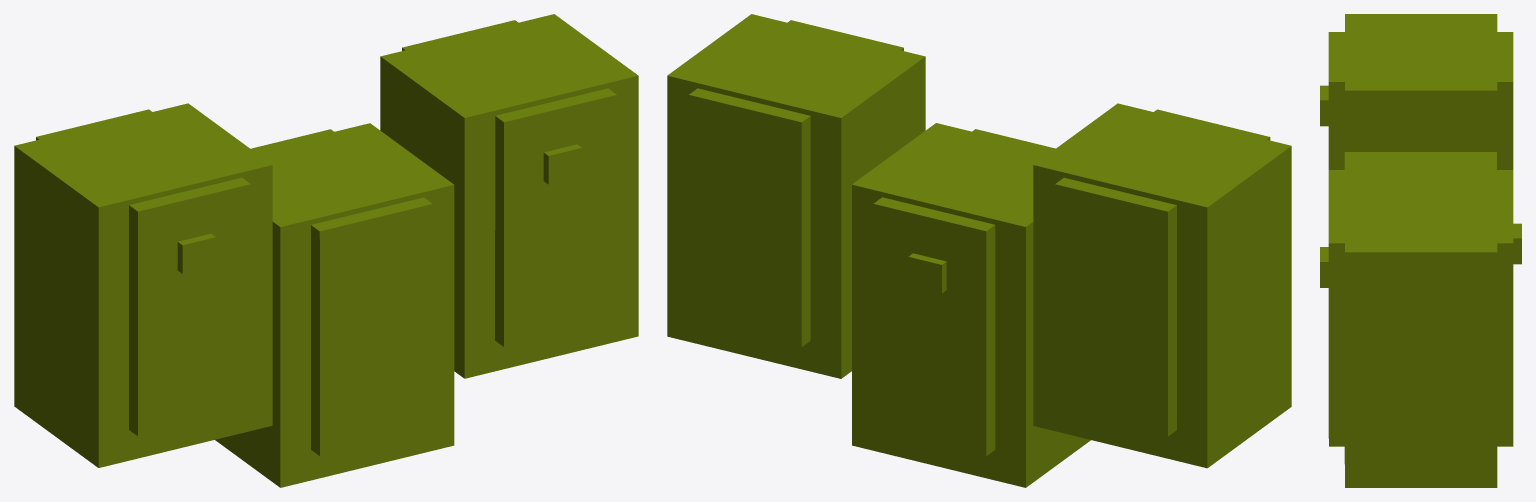
File: part_15_opt_2.obj
3 views of the same model, side by side, from view 1: azimuth 30°, elevation 25°; view 2: azimuth 150°, elevation 25°; view 3: azimuth 270°, elevation 25° (orthographic). The views are drawn at different scales.
Parts seen in each view (by area): view 1: Box025, Box023, Box024; view 2: Box025, Box023, Box024; view 3: Box023, Box025, Box024.
Part boxes in pixels (x1,y1,x2,y2): Box025: (14, 103, 272, 467); Box023: (380, 14, 638, 378); Box024: (215, 123, 454, 487); Box025: (1033, 103, 1291, 468); Box023: (667, 14, 925, 378); Box024: (852, 123, 1090, 487); Box023: (1320, 175, 1513, 487); Box025: (1320, 14, 1513, 169); Box024: (1328, 152, 1521, 463).
Bounding box in the file's own units: 110 × 63 × 39.23.
